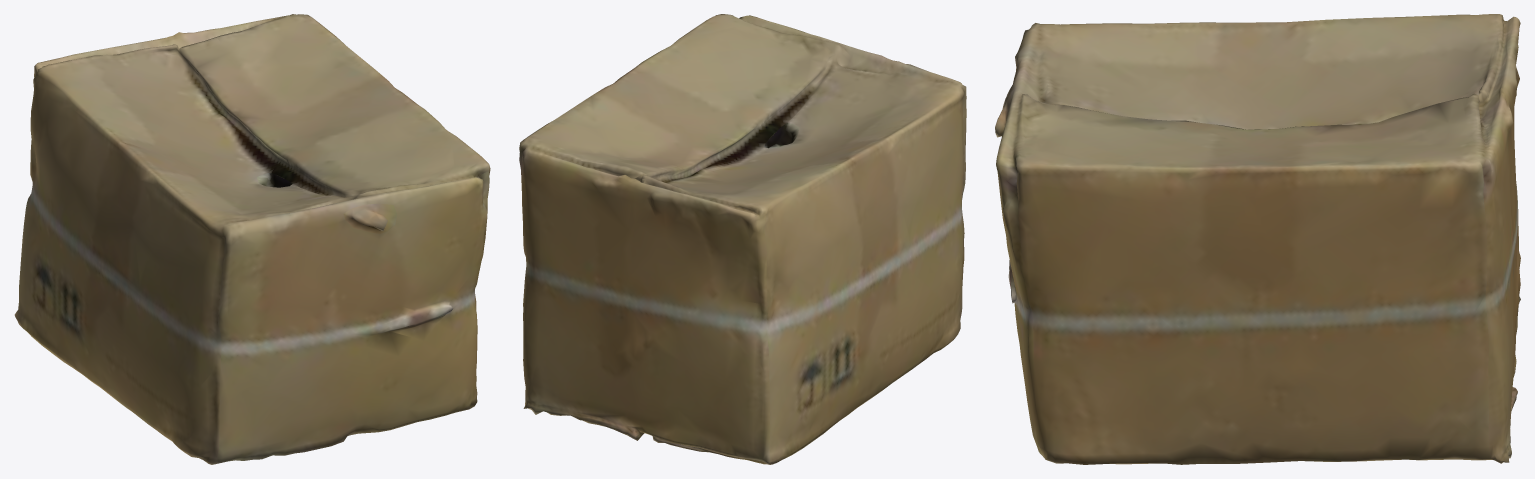
The model's file is cardboard_box_01.glb.
3 renders of one model, left to right at view 1: azimuth 30°, elevation 25°; view 2: azimuth 150°, elevation 25°; view 3: azimuth 270°, elevation 25°, orthographic. The views are drawn at different scales.
Visible parts, largest first — view 1: cardboard_box_01; view 2: cardboard_box_01; view 3: cardboard_box_01.
Boxes of the visible parts, <box> form: cardboard_box_01: <box>14,14,490,464</box>; cardboard_box_01: <box>519,14,966,464</box>; cardboard_box_01: <box>995,14,1520,464</box>.
Bounding box in the file's own units: 0.3868 × 0.3418 × 0.5159.
1 material, 1 textured.
